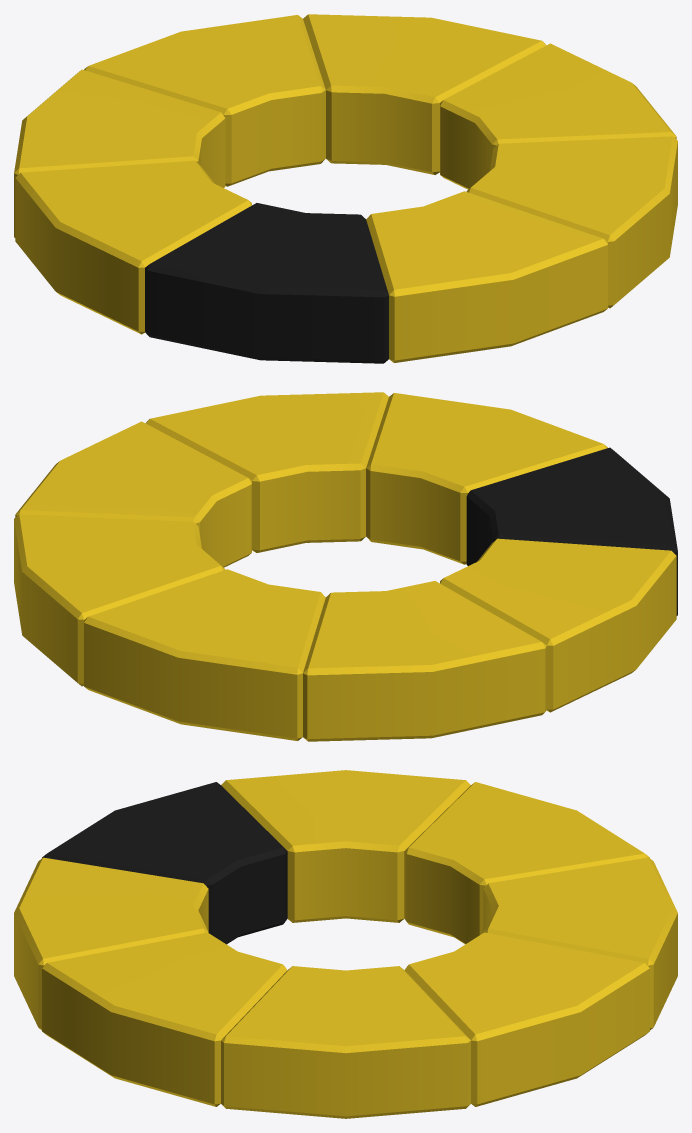
The picture shows the model from 3 angles, top to bottom: view 1: azimuth 30°, elevation 25°; view 2: azimuth 150°, elevation 25°; view 3: azimuth 270°, elevation 25°; orthographic projection.
Visible parts, largest first — view 1: Black_platform 4.006, Yellow_platform 1.006, Yellow_platform 4.006, Black_platform 1.006, Yellow_platform 3.006, Black_platform 2.006, Yellow_platform 2.006, Black_platform 3.006; view 2: Black_platform 3.006, Yellow_platform 3.006, Yellow_platform 4.006, Black_platform 2.006, Yellow_platform 1.006, Black_platform 1.006, Yellow_platform 2.006, Black_platform 4.006; view 3: Yellow_platform 2.006, Black_platform 2.006, Black_platform 1.006, Yellow_platform 4.006, Black_platform 4.006, Black_platform 3.006, Yellow_platform 1.006, Yellow_platform 3.006.
Part boxes in pixels (x1,y1,x2,y2): Black_platform 4.006: (145, 203, 388, 363); Yellow_platform 1.006: (366, 191, 607, 362); Yellow_platform 4.006: (15, 160, 251, 334); Black_platform 1.006: (303, 14, 546, 174); Yellow_platform 3.006: (84, 15, 325, 186); Black_platform 2.006: (466, 136, 677, 308); Yellow_platform 2.006: (440, 43, 676, 189); Black_platform 3.006: (14, 69, 225, 237); Black_platform 3.006: (303, 581, 546, 741); Yellow_platform 3.006: (84, 569, 325, 740); Yellow_platform 4.006: (440, 538, 676, 712); Black_platform 2.006: (145, 392, 388, 552); Yellow_platform 1.006: (366, 393, 607, 564); Black_platform 1.006: (14, 514, 225, 686); Yellow_platform 2.006: (15, 421, 251, 567); Black_platform 4.006: (466, 447, 677, 615); Yellow_platform 2.006: (221, 966, 470, 1118); Black_platform 2.006: (42, 932, 287, 1106); Black_platform 1.006: (404, 932, 649, 1106); Yellow_platform 4.006: (221, 770, 470, 922); Black_platform 4.006: (42, 782, 287, 944); Black_platform 3.006: (404, 782, 649, 944); Yellow_platform 1.006: (14, 857, 208, 1030); Yellow_platform 3.006: (483, 857, 677, 1030).
Bounding box in the file's own units: 1287 × 1287 × 165.
